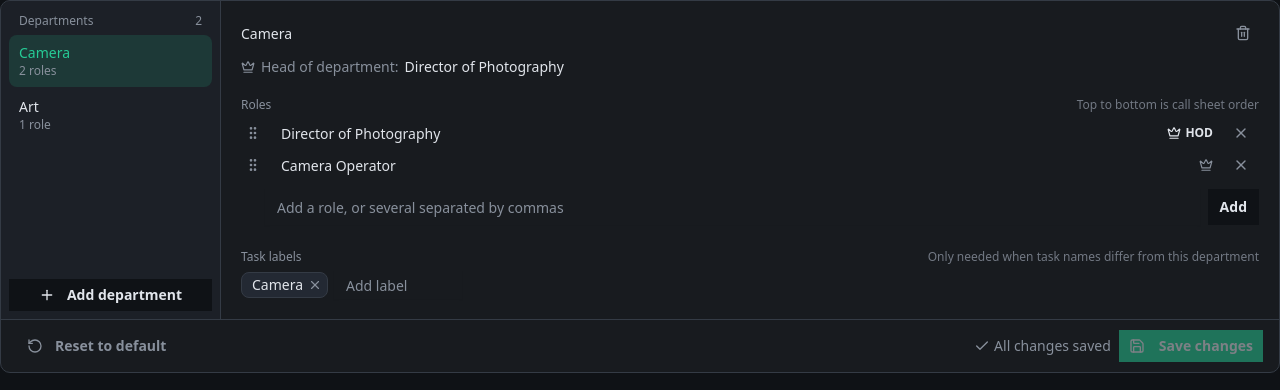
Scenario: CrewStructureEditor › toggles the HOD from a role row
The width and height of the screenshot is (1280, 390).
expect the field named "Department name" is shown: met, box [233, 13, 1219, 53]
Click the button with aria-label "Unset Director of Photography as head of department".
click(1190, 133)  # box [1157, 119, 1223, 147]
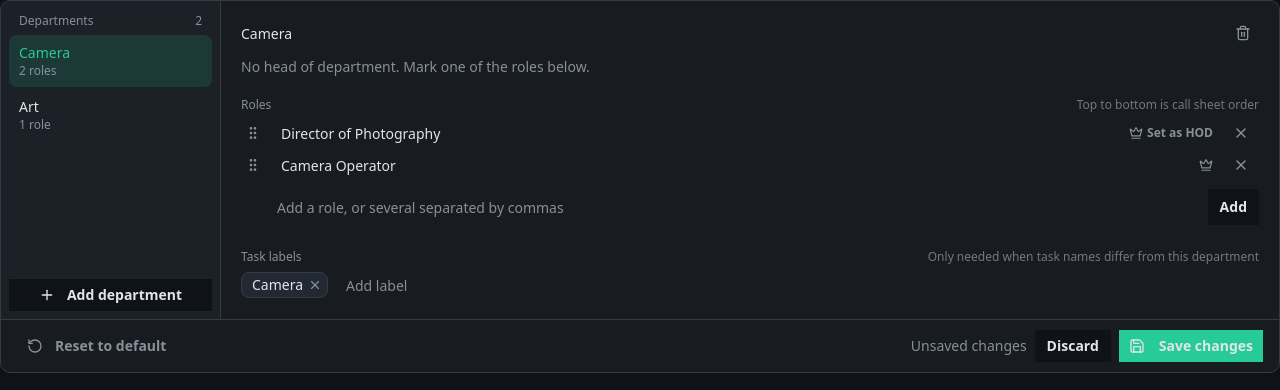
expect the text "No head of department. Mark one of the roles below." is shown: met, box [241, 57, 590, 76]
Click the button named "Set Camera Operator as head of department".
click(1206, 165)  # box [1189, 151, 1223, 179]
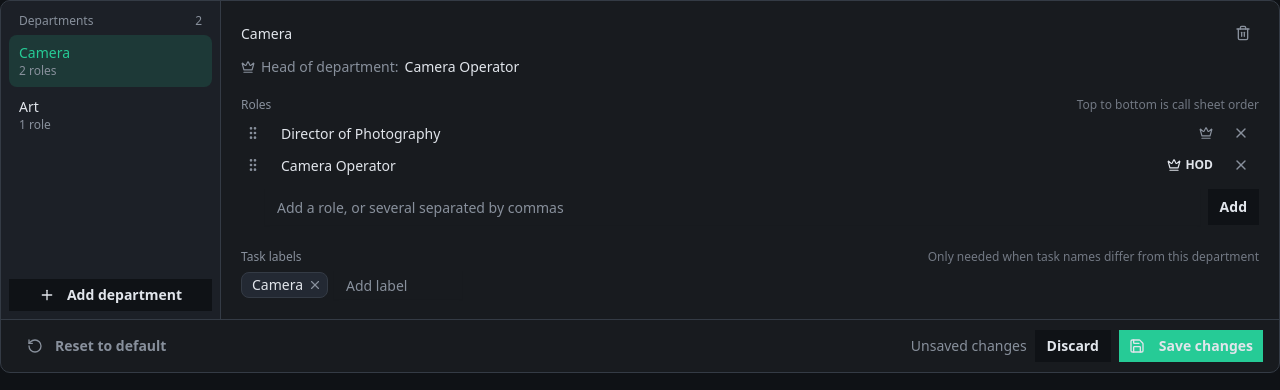
expect the text "Head of department: Camera Operator" is shown: met, box [241, 57, 519, 76]
